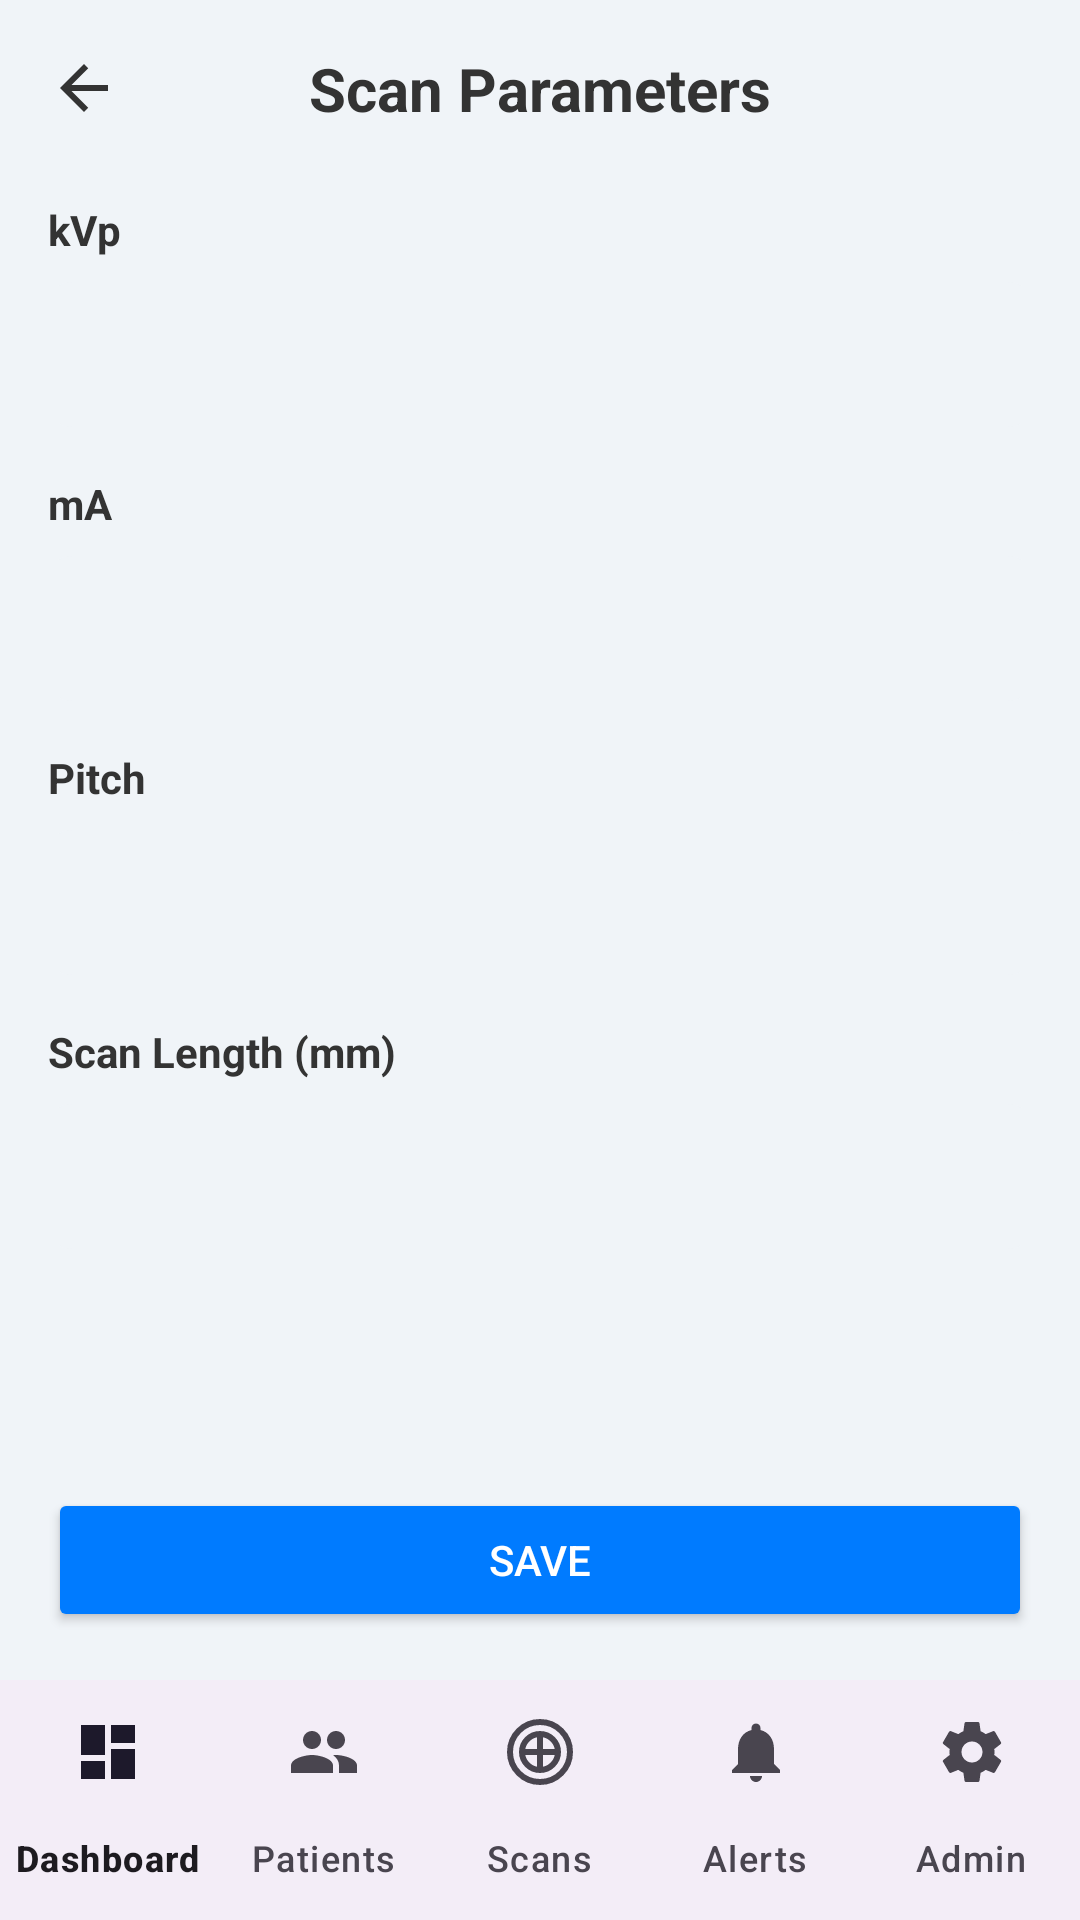

Where to tap for icons on this 1080px×1920px app screen, as (x,y):
arrow back: (84,88)
